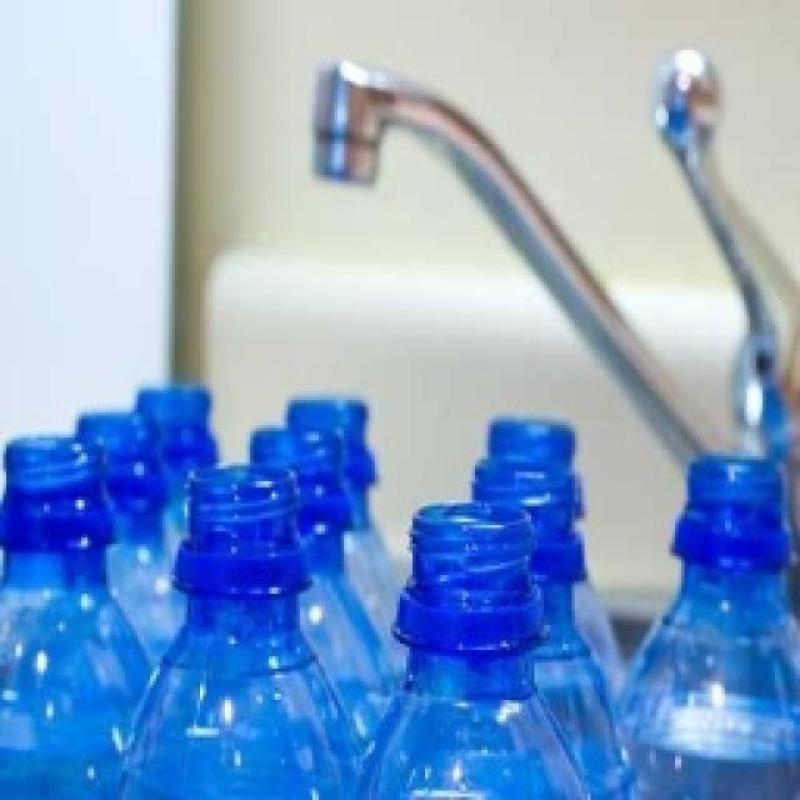botella: (124, 471, 365, 800), (361, 506, 599, 800), (615, 459, 799, 800), (0, 437, 152, 800), (468, 461, 622, 783), (249, 428, 403, 734), (281, 395, 400, 655), (72, 413, 178, 675), (480, 414, 590, 514), (131, 384, 219, 472)
